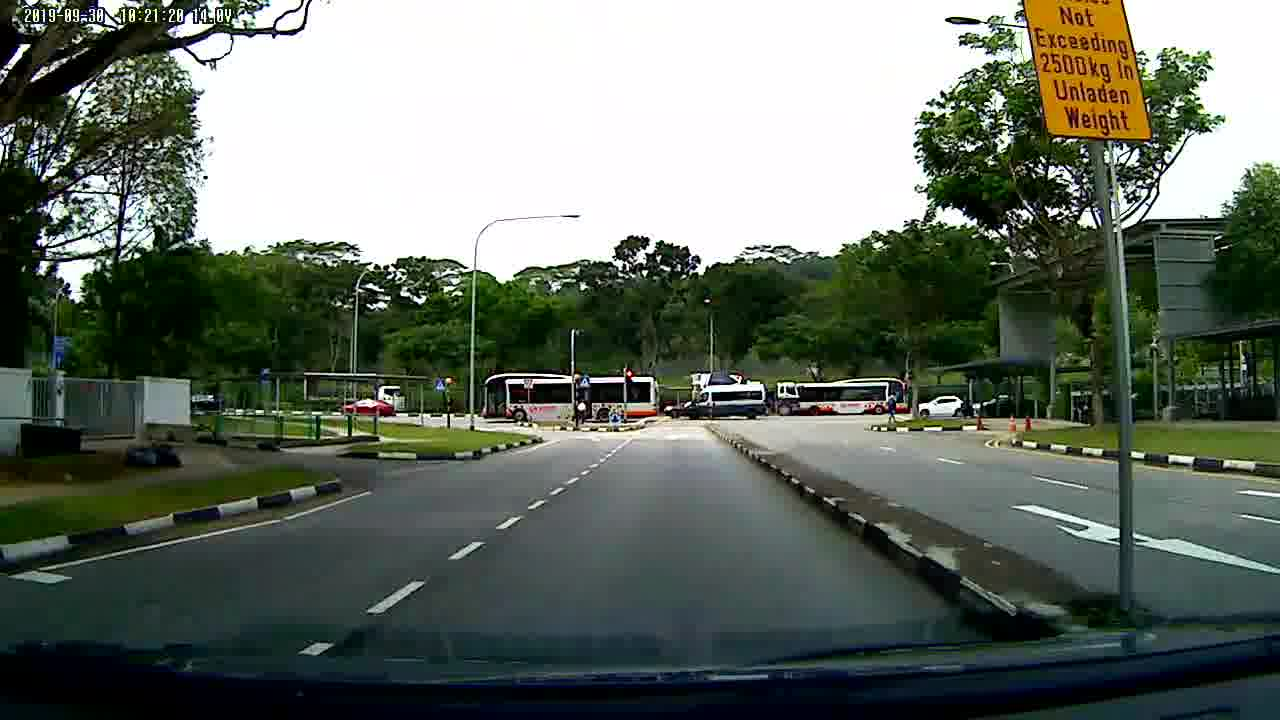bus: (479, 370, 659, 420), (800, 377, 905, 413)
car: (914, 396, 964, 417), (340, 398, 394, 416)
